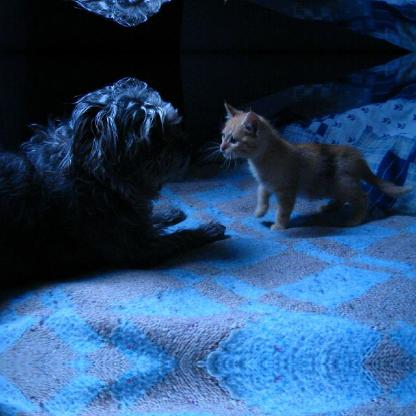Cat: (198, 100, 410, 230)
